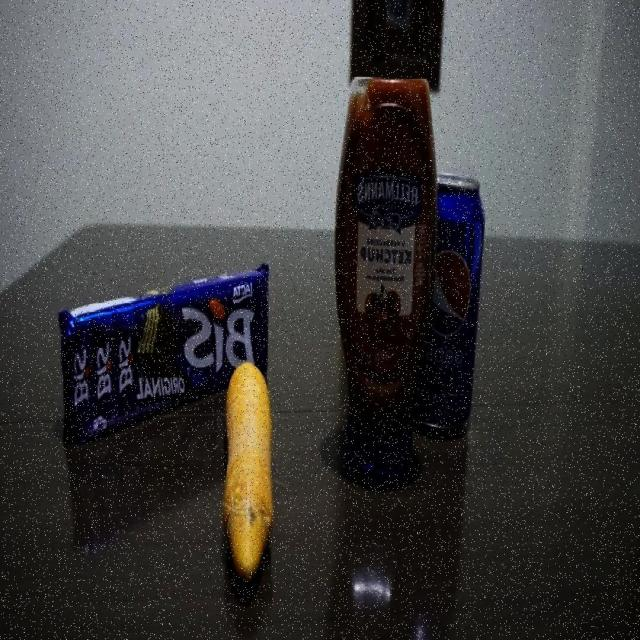Carrot: (223, 364, 272, 587)
Ketchup: (337, 76, 435, 484)
SodaCan: (418, 172, 485, 444)
